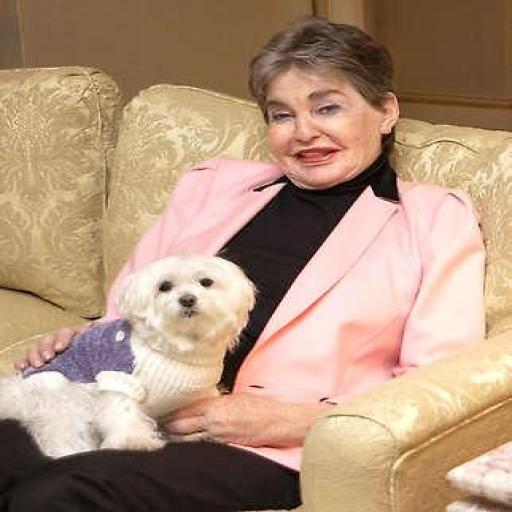dog_face: (111, 252, 247, 346)
